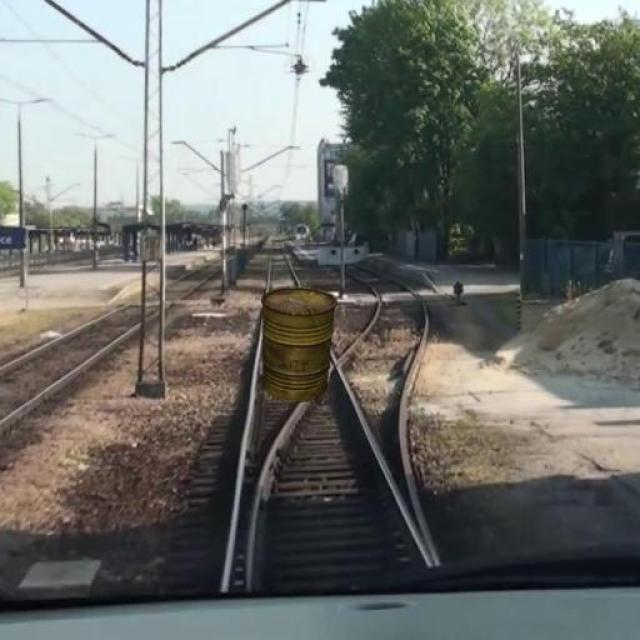Other_objects: (254, 283, 342, 414)
